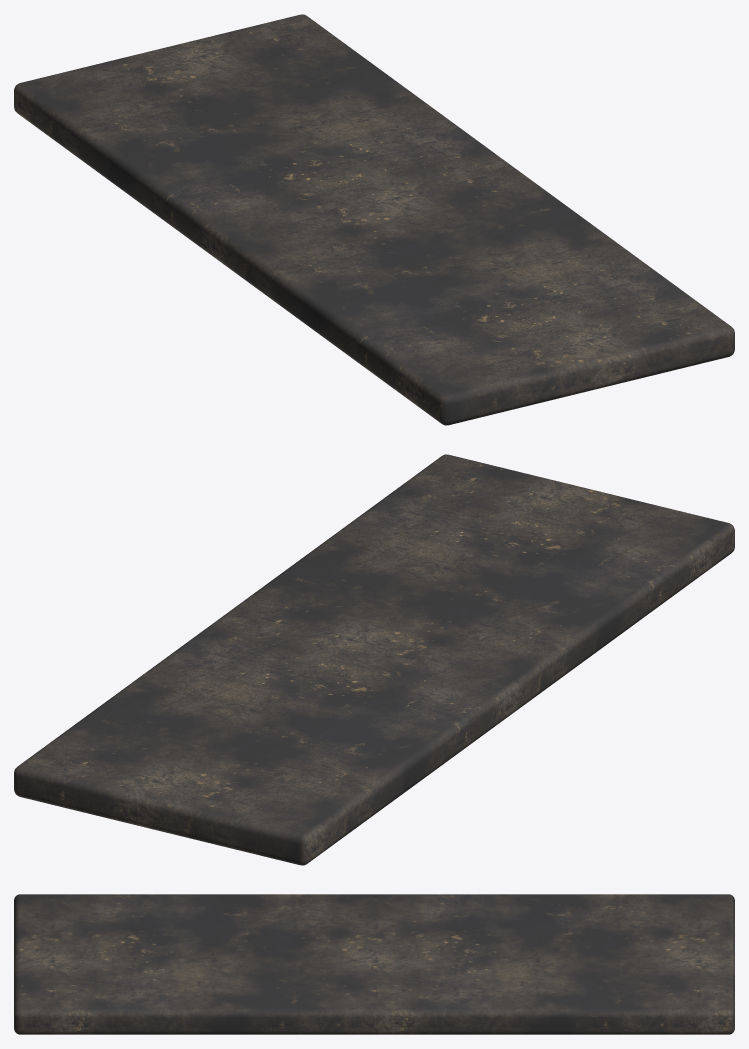
The model's file is mattress.fbx.
3 renders of one model, top to bottom at view 1: azimuth 30°, elevation 25°; view 2: azimuth 150°, elevation 25°; view 3: azimuth 270°, elevation 25°, orthographic. The views are drawn at different scales.
Parts seen in each view (by area): view 1: Mattress; view 2: Mattress; view 3: Mattress.
Boxes of the visible parts, x1,y1,x2,y2 form: Mattress: (14, 14, 734, 425); Mattress: (14, 454, 734, 865); Mattress: (14, 894, 734, 1034).
Size of the model in its own units: 87.59 by 8.67 by 223.
